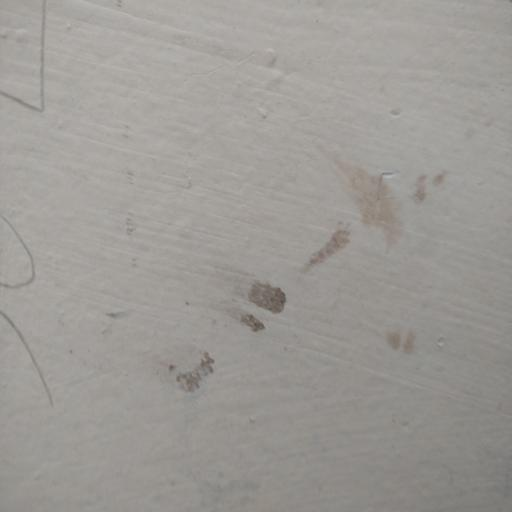stain: (0, 0, 76, 422), (284, 137, 454, 291), (143, 262, 320, 409), (371, 314, 441, 361)
